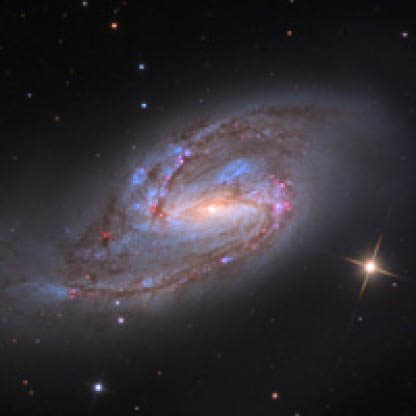Messier 66: (34, 71, 404, 370)
